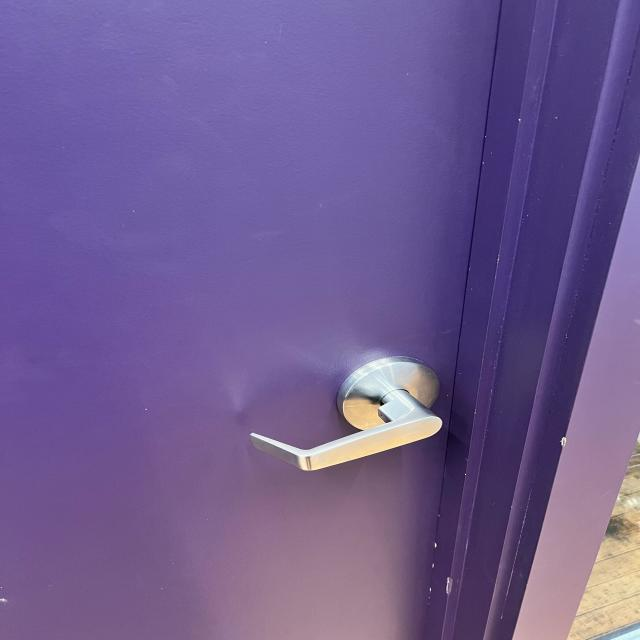door-handle: (250, 356, 442, 470)
